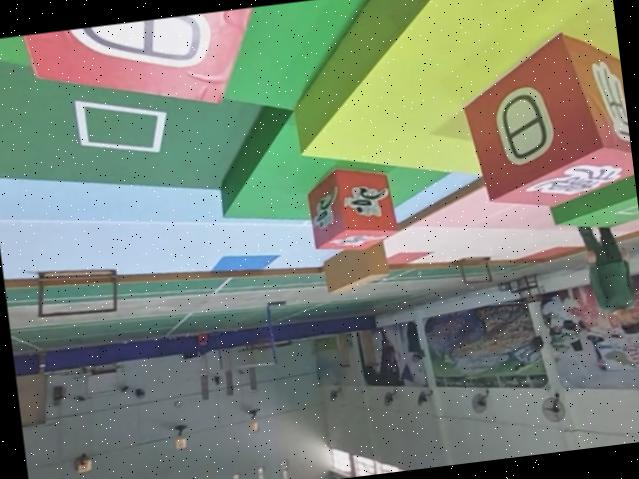R1: (300, 160, 402, 259)
R2 Fake: (453, 25, 637, 218), (17, 6, 269, 133)
